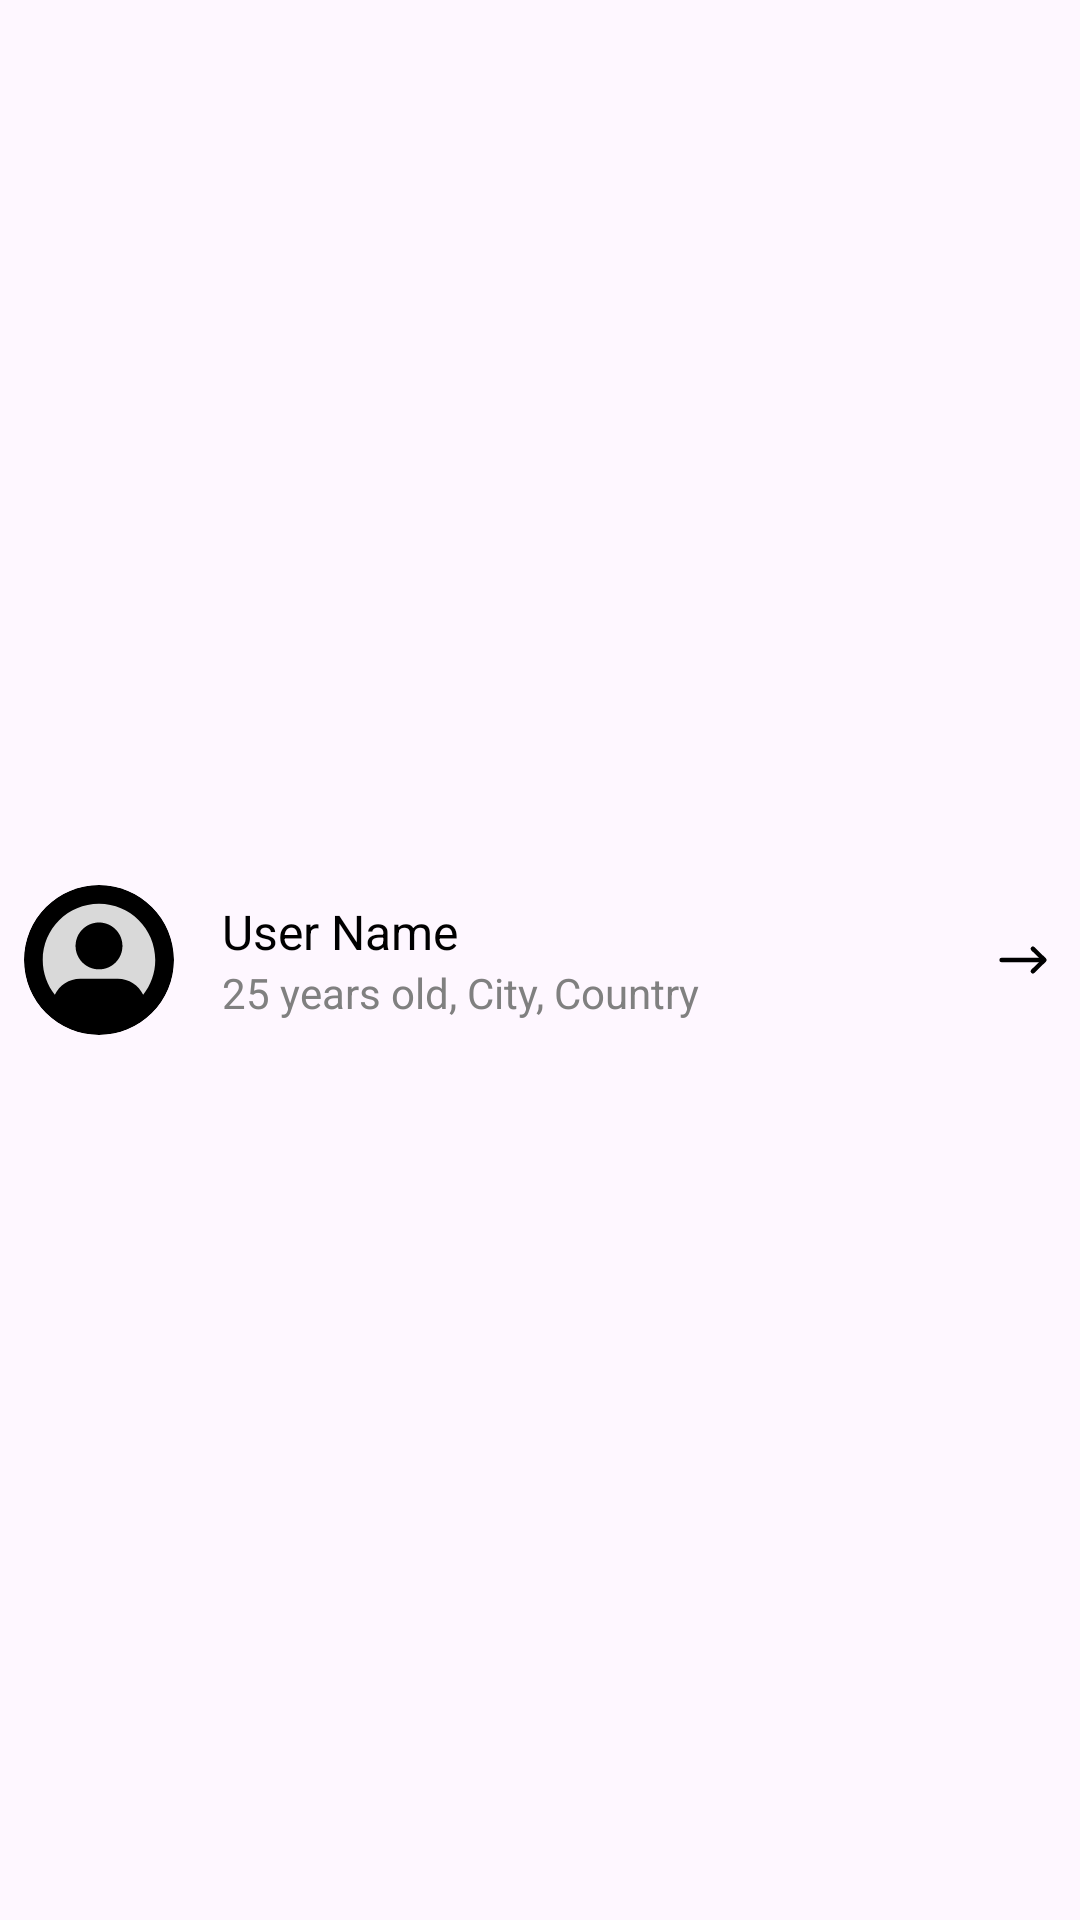

Icons on this 1080w x 1920h Android screen, each with the point to tap as point (x, y):
arror right: point (1023, 960)
